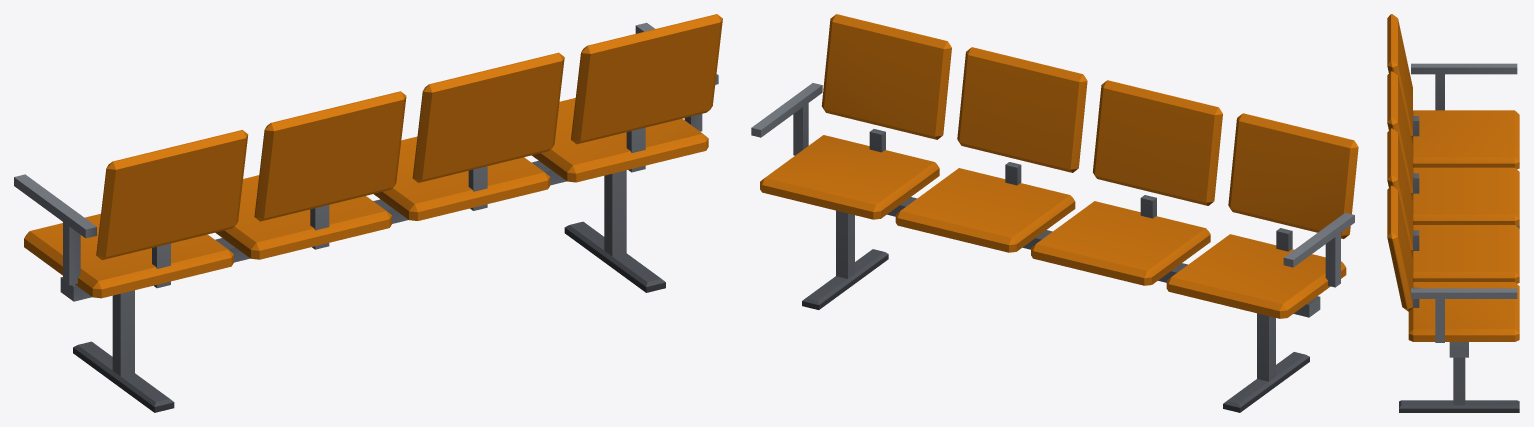
File: bench_waiting_01.glb
3 renders of one model, left to right at view 1: azimuth 30°, elevation 25°; view 2: azimuth 150°, elevation 25°; view 3: azimuth 270°, elevation 25°, orthographic. The views are drawn at different scales.
Parts seen in each view (by area): view 1: bench_waiting_01_mesh; view 2: bench_waiting_01_mesh; view 3: bench_waiting_01_mesh.
Boxes of the visible parts, x1,y1,x2,y2 form: bench_waiting_01_mesh: [14, 14, 722, 412]; bench_waiting_01_mesh: [751, 14, 1358, 412]; bench_waiting_01_mesh: [1387, 14, 1519, 412].
Size of the model in its own units: 2.24 by 0.9 by 0.5485.
Materials: 1 (1 with a texture image).
